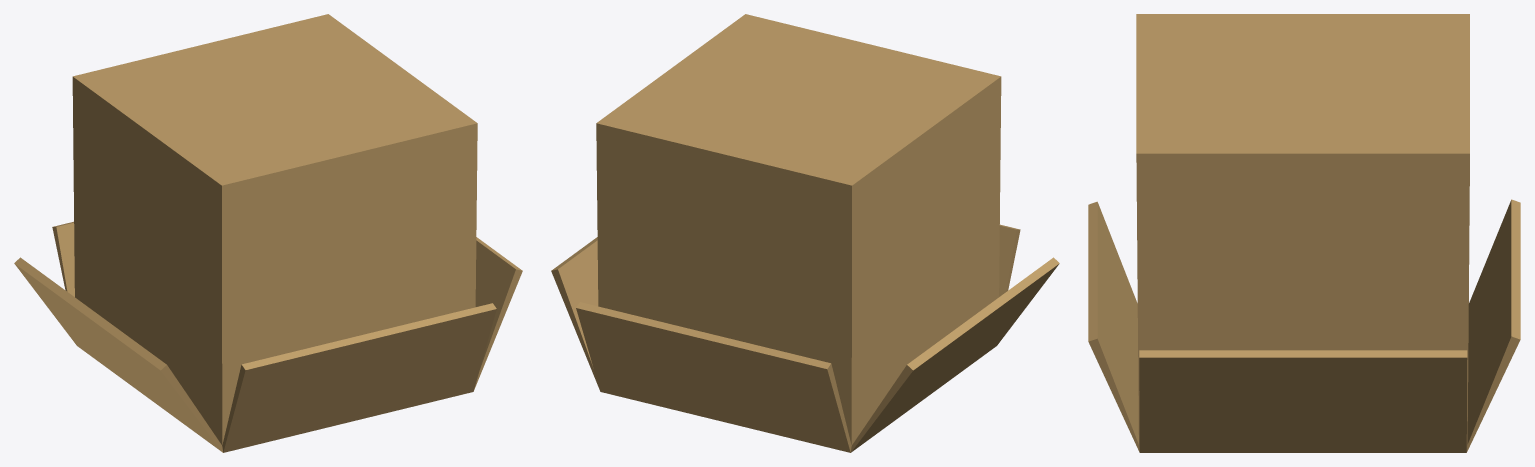
The model's file is Box_1_plain.fbx.
The picture shows the model from 3 angles, left to right: view 1: azimuth 30°, elevation 25°; view 2: azimuth 150°, elevation 25°; view 3: azimuth 270°, elevation 25°; orthographic projection. The views are drawn at different scales.
Visible parts, largest first — view 1: Box_1; view 2: Box_1; view 3: Box_1.
Boxes of the visible parts, x1=… form: Box_1: x1=14, y1=14, x2=522, y2=452; Box_1: x1=551, y1=14, x2=1059, y2=452; Box_1: x1=1088, y1=14, x2=1520, y2=452.
Size of the model in its own units: 141 by 100 by 131.
